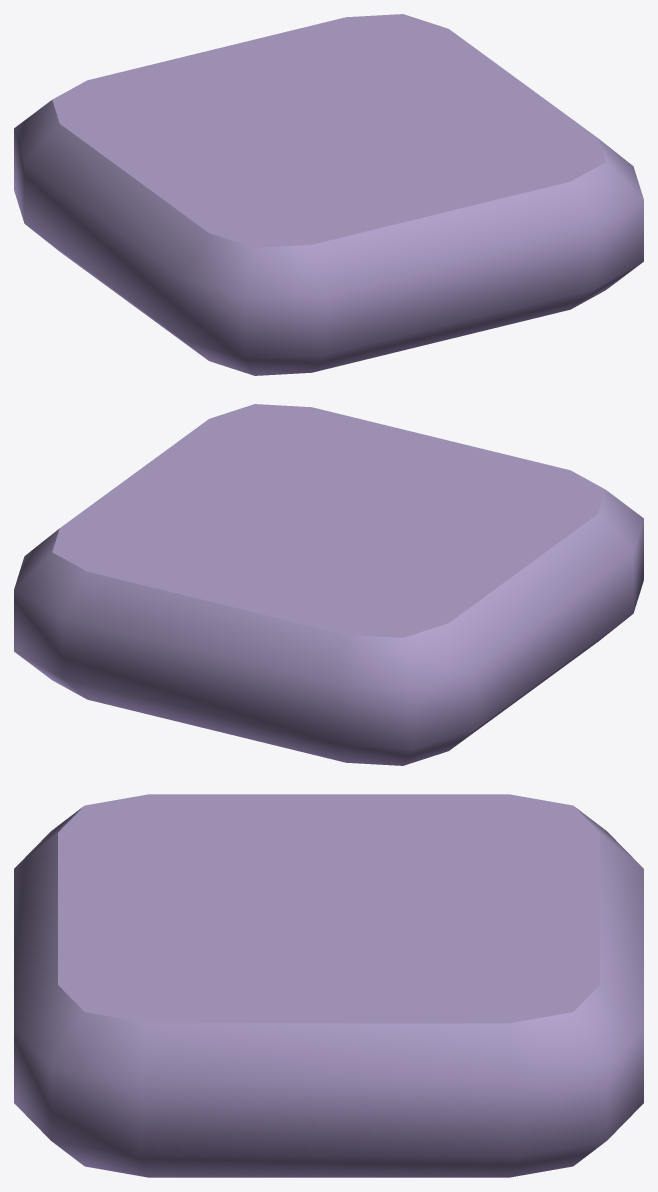
The model's file is cushion-square-rounded_0.glb.
3 renders of one model, top to bottom at view 1: azimuth 30°, elevation 25°; view 2: azimuth 150°, elevation 25°; view 3: azimuth 270°, elevation 25°, orthographic. The views are drawn at different scales.
Parts seen in each view (by area): view 1: cushion-square-rounded; view 2: cushion-square-rounded; view 3: cushion-square-rounded.
Boxes of the visible parts, x1,y1,x2,y2 form: cushion-square-rounded: [14, 14, 643, 375]; cushion-square-rounded: [14, 404, 643, 765]; cushion-square-rounded: [14, 794, 643, 1177].
Size of the model in its own units: 0.5 by 0.1352 by 0.5.
